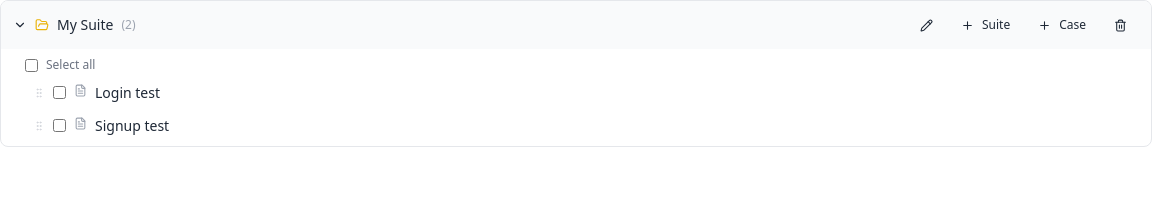
CaseList — Select all › renders a plan combobox when plans exist
Click the checkbox labelled "Select all". click: (32, 65)
box: x1=25 y1=58 x2=38 y2=72
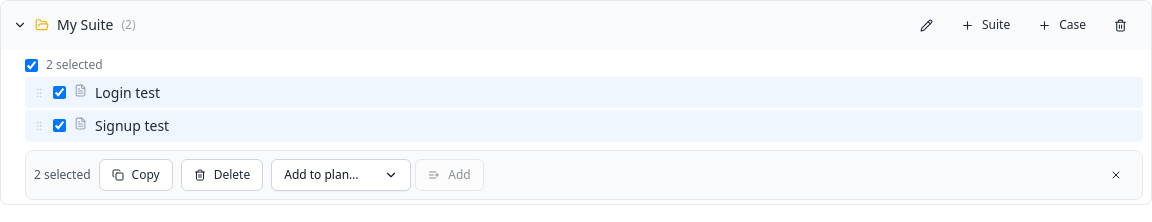
Expected: the dropdown is shown, x1=271 y1=158 x2=411 y2=190
